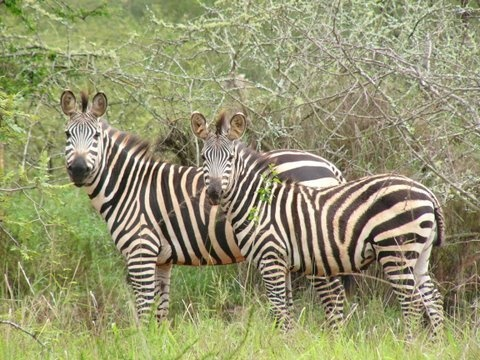zebra: (57, 88, 364, 352), (187, 108, 452, 356)
